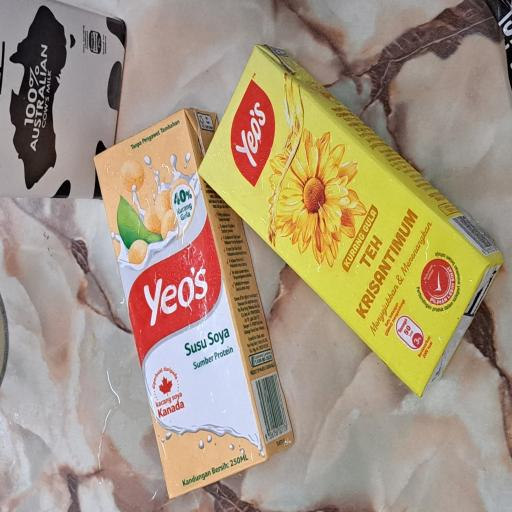drink carton: (9, 126, 301, 389), (89, 261, 348, 512), (235, 0, 384, 170)
